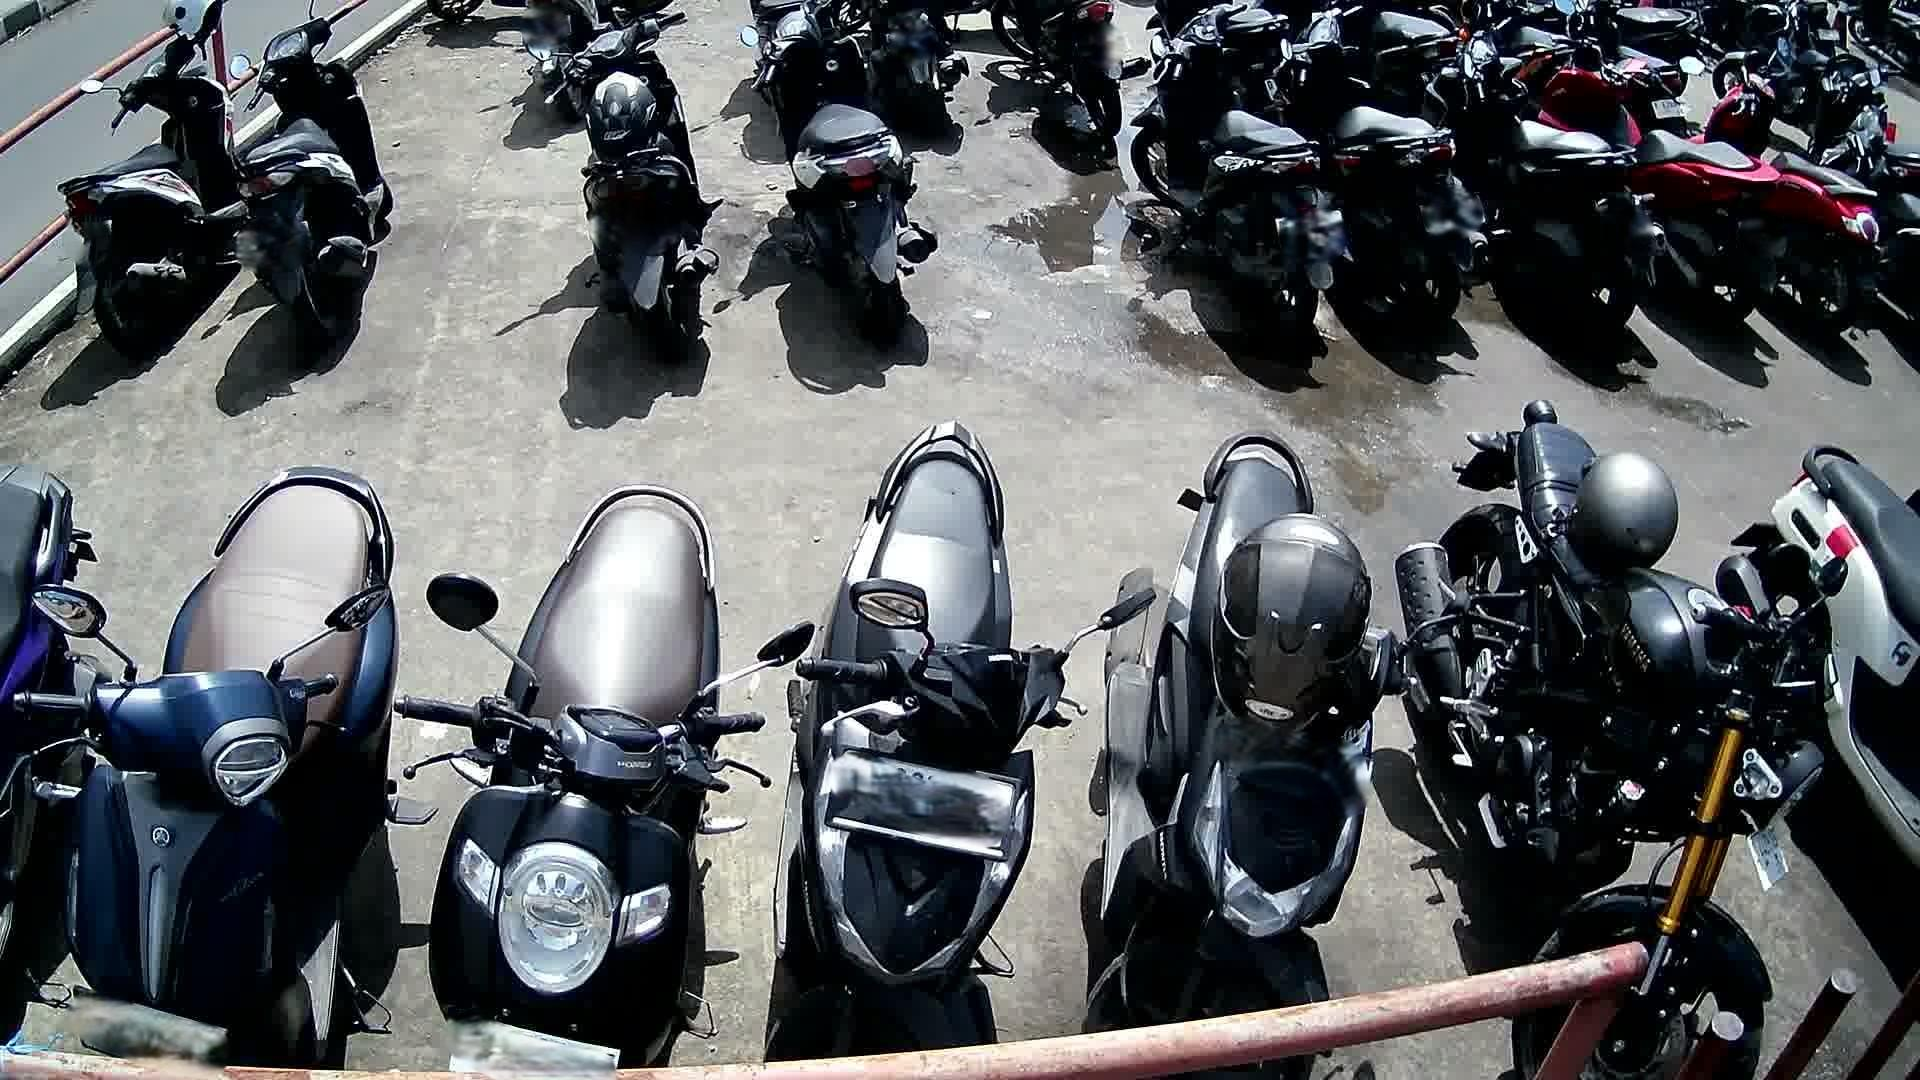motorcycle: (1396, 397, 1829, 1080), (16, 462, 440, 1068), (390, 485, 815, 1076), (778, 419, 1126, 1059), (1091, 429, 1424, 1069), (1716, 442, 1920, 872), (1414, 18, 1667, 340), (1129, 0, 1353, 353), (1261, 0, 1487, 344), (1534, 44, 1785, 332), (738, 0, 940, 355), (541, 7, 731, 364), (58, 24, 245, 355), (229, 0, 398, 348), (1684, 46, 1882, 338), (0, 462, 96, 1050)
